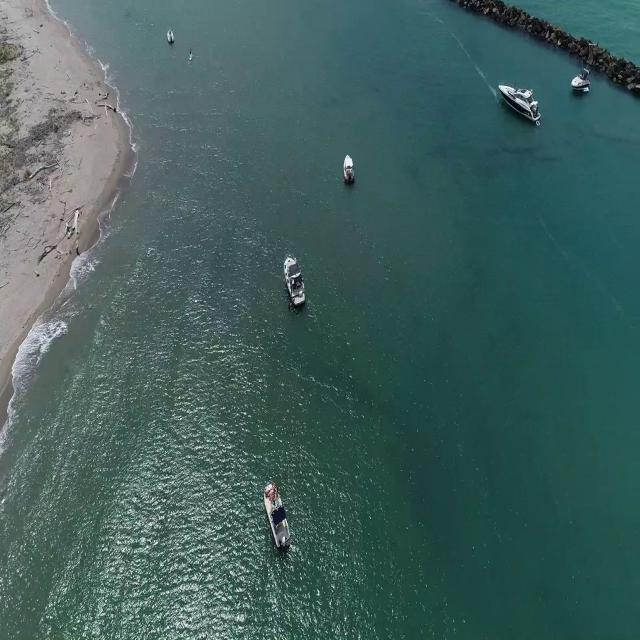boat: (499, 83, 544, 129), (266, 482, 289, 551), (284, 250, 308, 308), (571, 68, 595, 95), (344, 150, 358, 186), (168, 26, 177, 43)
person: (189, 43, 195, 55)
surfboard: (190, 53, 197, 65)
wood: (41, 209, 83, 255)
